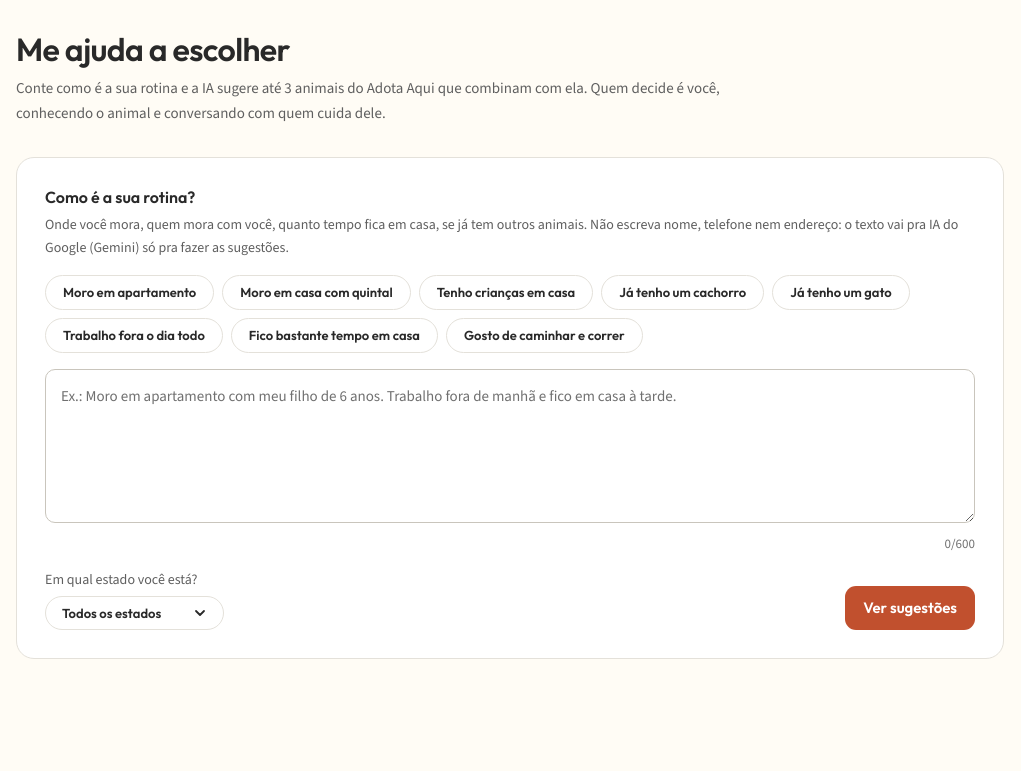
Test: visitante conta a rotina, escolhe o estado e vê as sugestões com o motivo
// Frases prontas entram no texto
Click the button "Moro em apartamento": (130, 293) [45, 275, 214, 310]
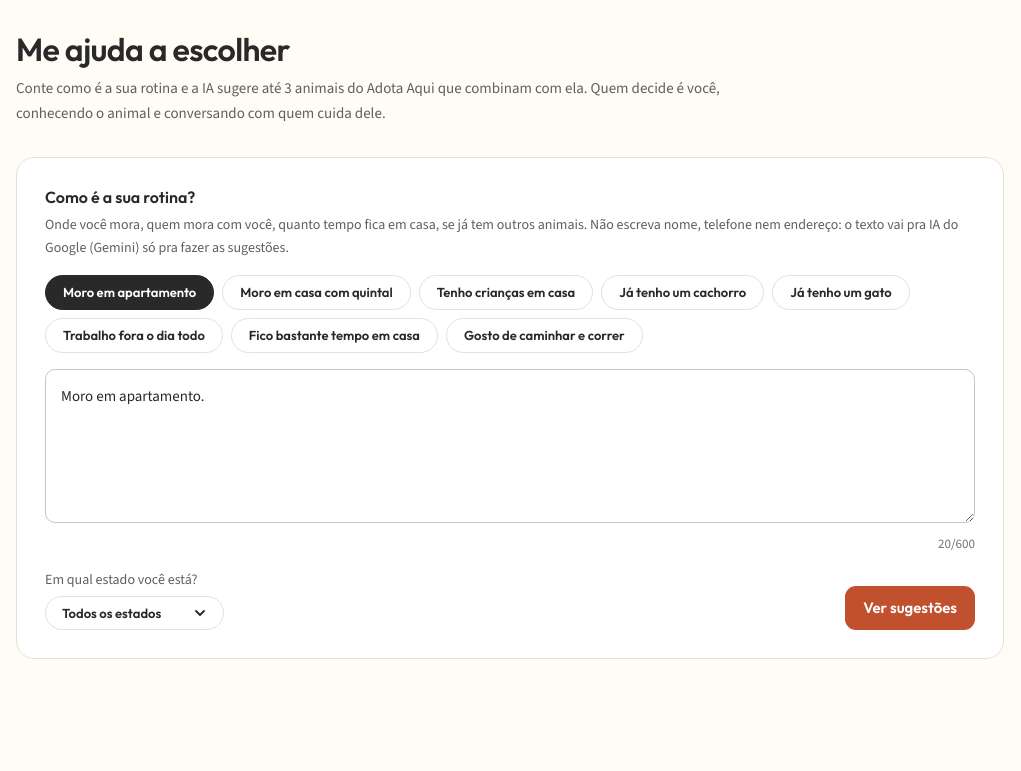
Click the button "Tenho crianças em casa": (506, 293) [419, 275, 593, 310]
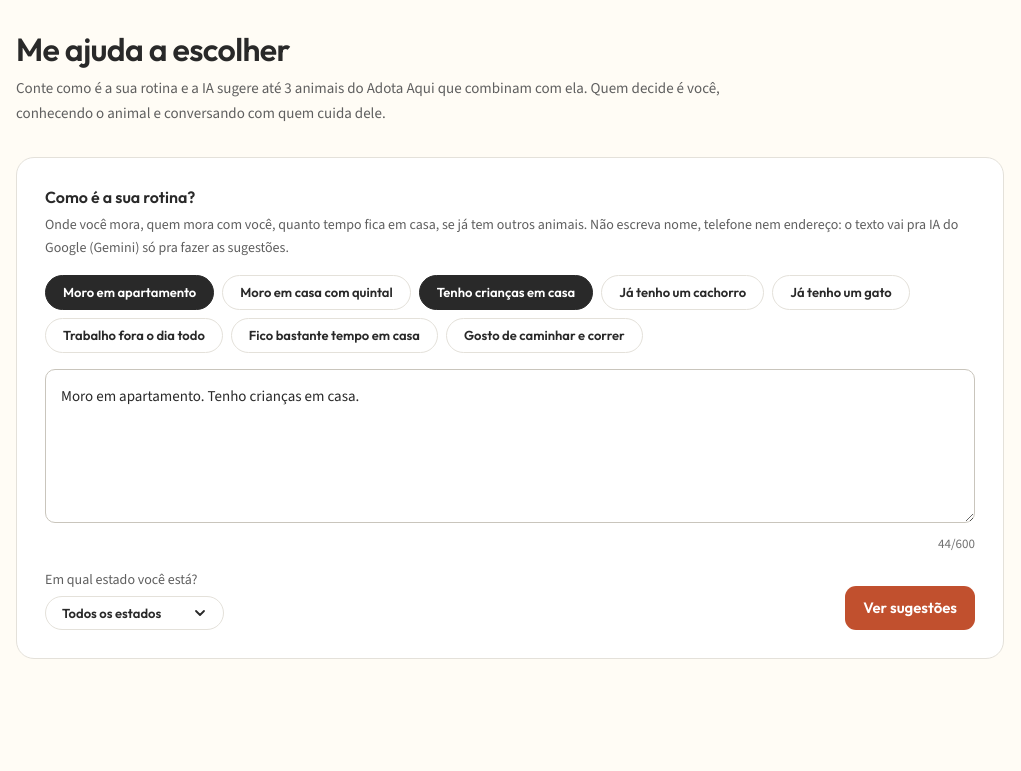
Expected: the text "Não escreva nome, telefone nem endereço" is shown, [45, 215, 958, 257]
Result: the text box labelled "Como é a sua rotina?" holds "Moro em apartamento. Tenho crianças em casa." at [45, 369, 975, 523]
Select "Rondônia" in the dropdown labelled "Em qual estado você está?": (134, 613) [45, 596, 224, 630]
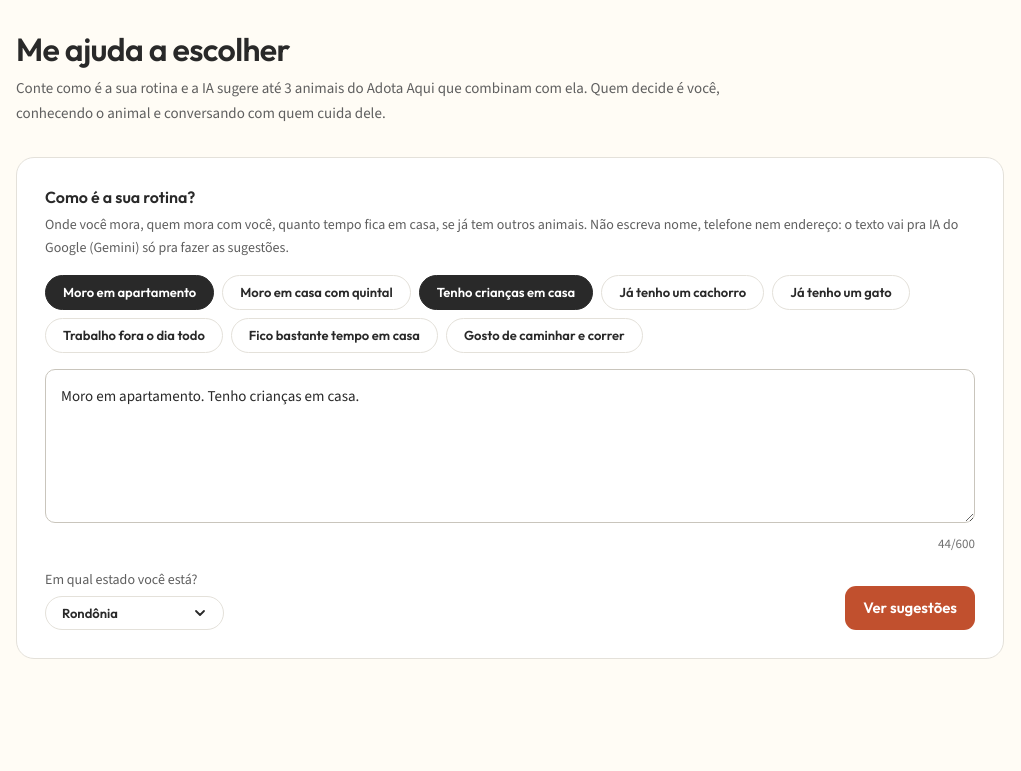
Click the button "Ver sugestões": (910, 608) [845, 586, 975, 630]
(page scrolled)
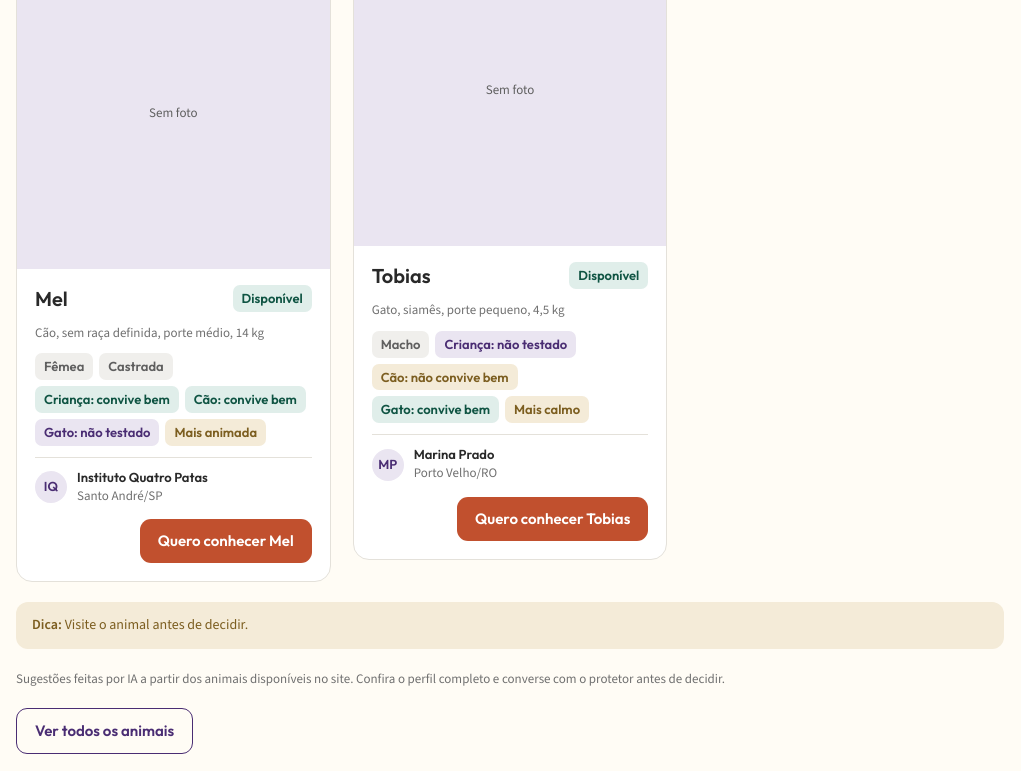
Result: the heading "Mel" is shown at [35, 286, 68, 311]
Result: the text "Visite o animal antes de decidir." is shown at [65, 615, 248, 634]
Result: the text "Sugestões feitas por IA" is shown at [16, 670, 725, 686]
